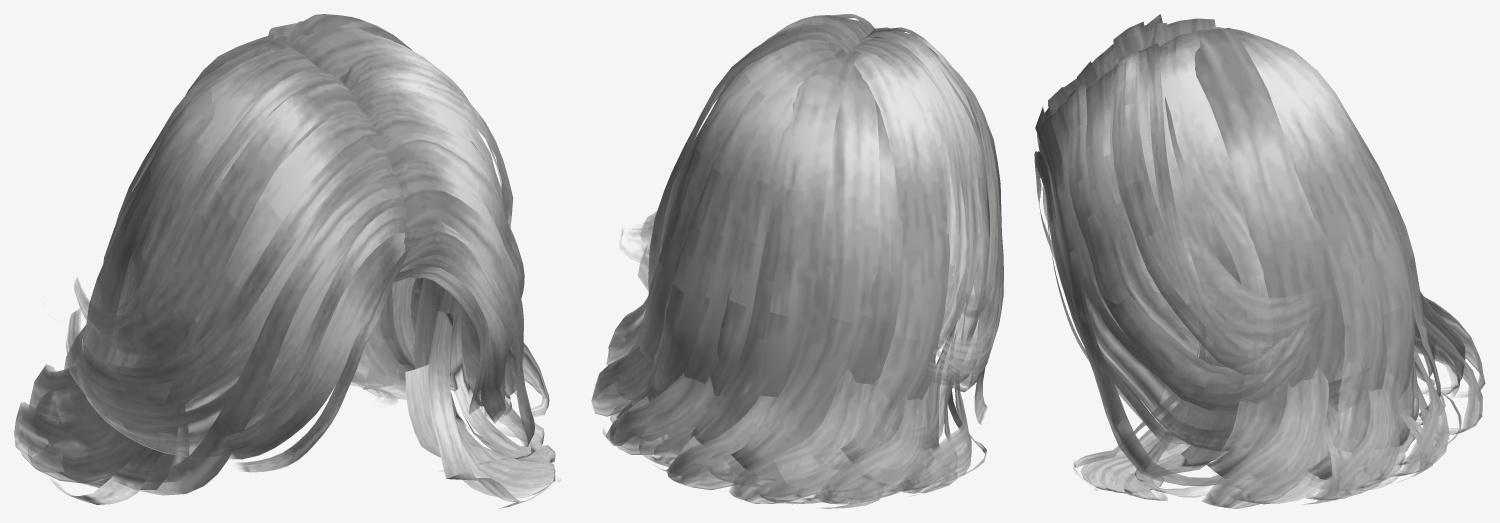
File: daz_hair_ashley_wave.glb
3 renders of one model, left to right at view 1: azimuth 30°, elevation 25°; view 2: azimuth 150°, elevation 25°; view 3: azimuth 270°, elevation 25°, orthographic. The views are drawn at different scales.
Visible parts, largest first — view 1: daz_hair_ashley_wave; view 2: daz_hair_ashley_wave; view 3: daz_hair_ashley_wave.
Part boxes in pixels (x1,y1,x2,y2): daz_hair_ashley_wave: [14, 14, 560, 508]; daz_hair_ashley_wave: [591, 14, 1003, 508]; daz_hair_ashley_wave: [1034, 14, 1485, 508].
Size of the model in its own units: 0.274 by 0.252 by 0.2629.
1 material, 1 textured.
